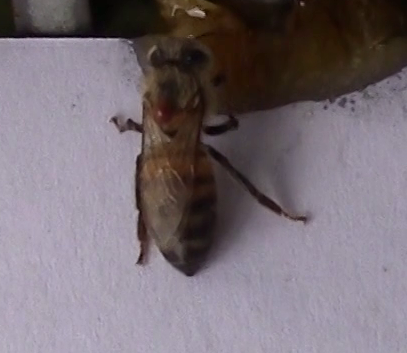Varroa destructor: (151, 98, 178, 126)
